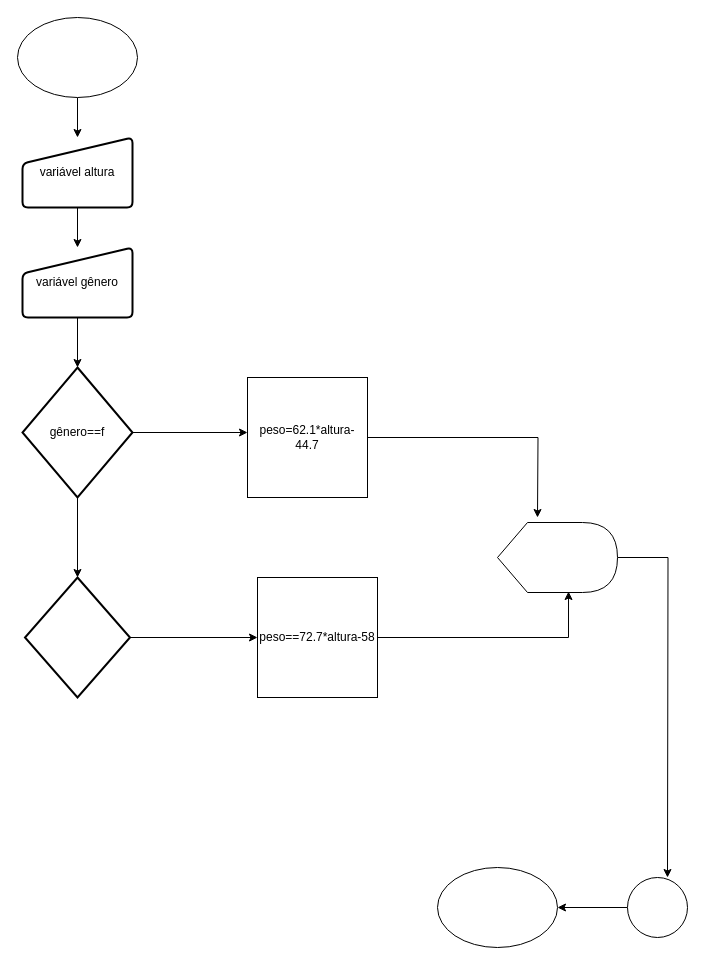
This 705x965 diagram has some shape labels left out. The shapes that lost their labels are listed below. From the top down, each one's centre as x and y in pixels, then its label:
[77,57]: inicio
[557,557]: imprima "seu peso ideal é'
[77,637]: gênero==m
